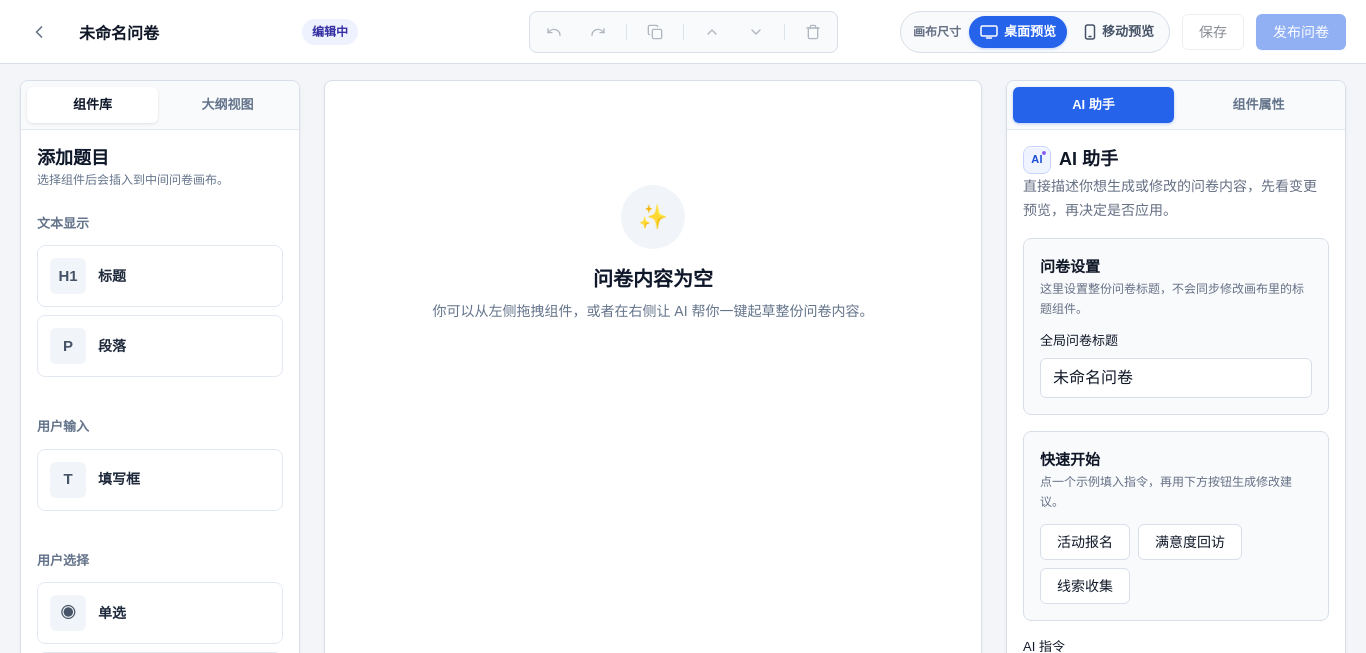
Test: EditorShell › scrolls a newly added canvas block into view
This screenshot has width=1366, height=653.
Step 1. Click the button "T 填写框" → (160, 480), box [37,448,283,510]
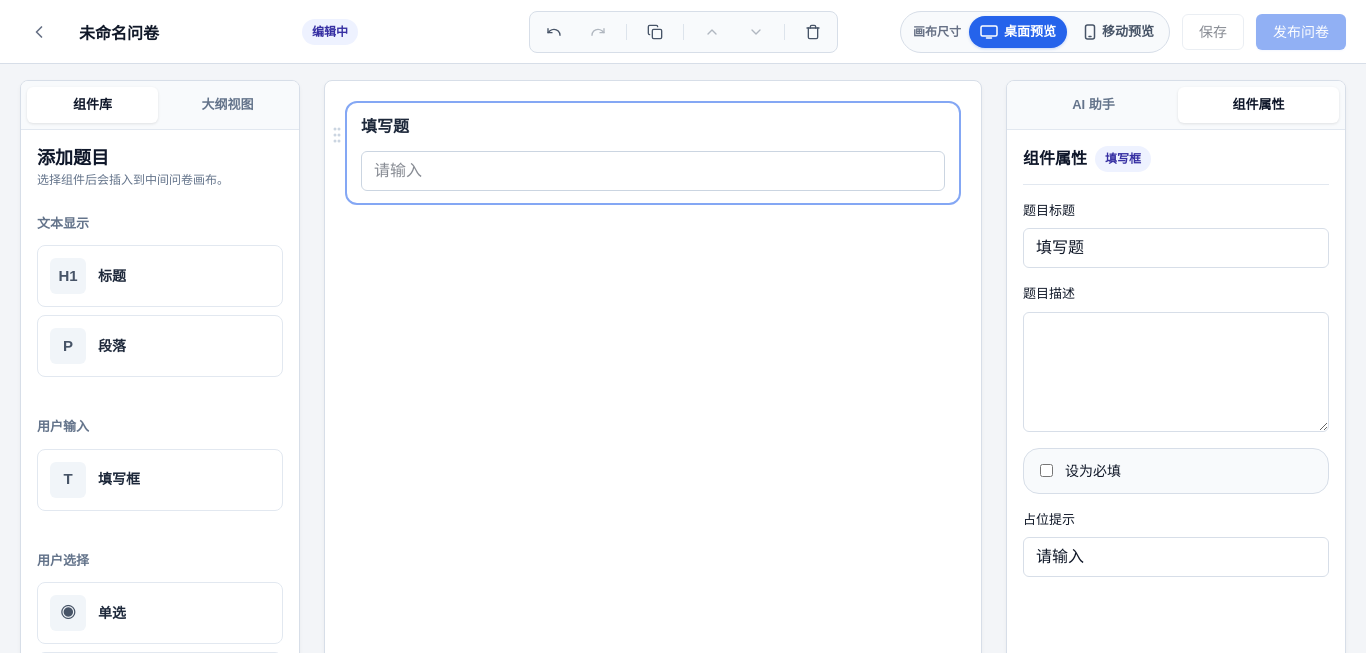
Expected: the field named "填写题" is shown, [361,151,945,191]
